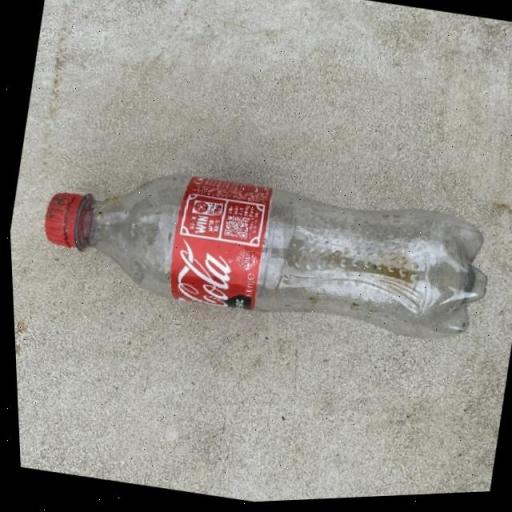plastic: (28, 137, 499, 366)
